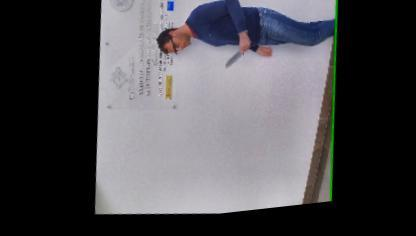knife: (219, 43, 252, 78)
